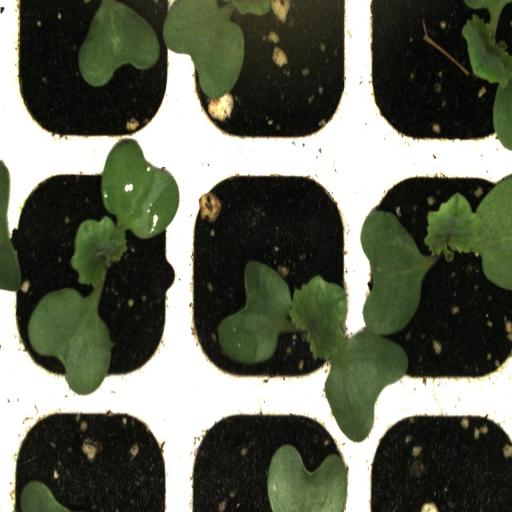seedling: (182, 158, 359, 401), (8, 154, 182, 395), (359, 158, 512, 400)
